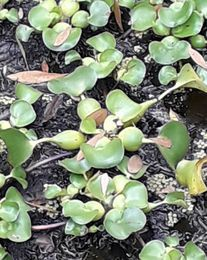water_hyacinth: (1, 1, 207, 260)
